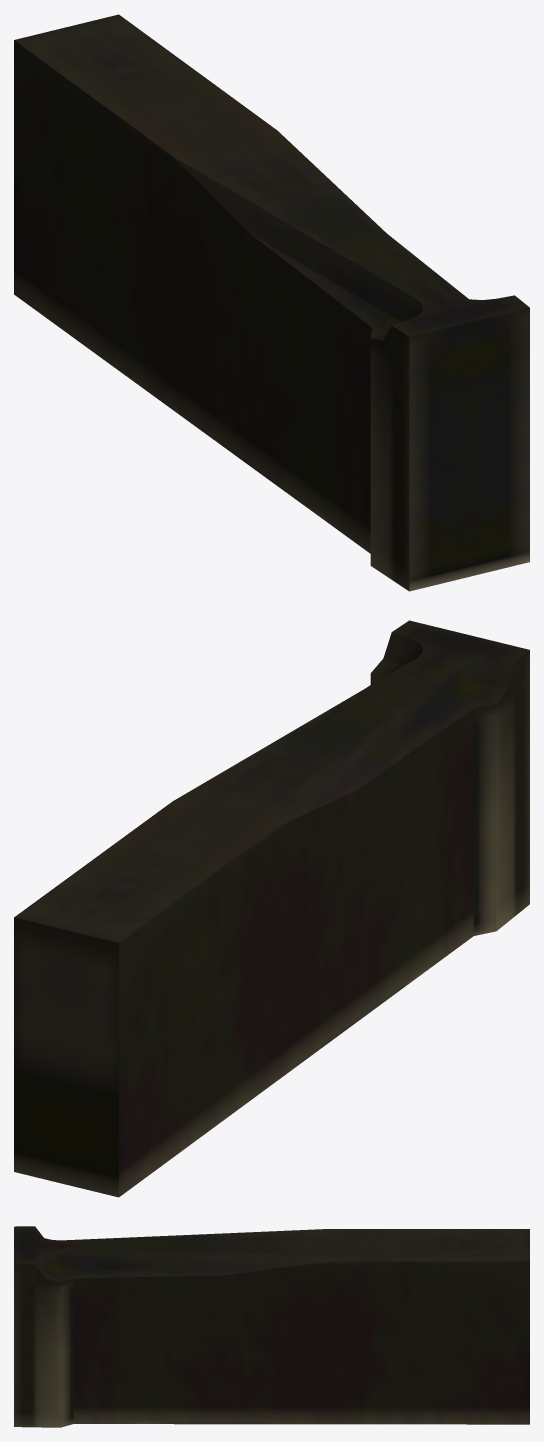
The picture shows the model from 3 angles, top to bottom: view 1: azimuth 30°, elevation 25°; view 2: azimuth 150°, elevation 25°; view 3: azimuth 270°, elevation 25°; orthographic projection. The views are drawn at different scales.
Parts seen in each view (by area): view 1: TW_5f2a9575926fd9352339381f_PZ_Import; view 2: TW_5f2a9575926fd9352339381f_PZ_Import; view 3: TW_5f2a9575926fd9352339381f_PZ_Import.
Boxes of the visible parts, <box> form: TW_5f2a9575926fd9352339381f_PZ_Import: <box>14,14,529,591</box>; TW_5f2a9575926fd9352339381f_PZ_Import: <box>14,620,529,1197</box>; TW_5f2a9575926fd9352339381f_PZ_Import: <box>14,1226,529,1427</box>.
Size of the model in its own units: 0.0086 by 0.0477 by 0.0166.
1 material, 1 textured.
